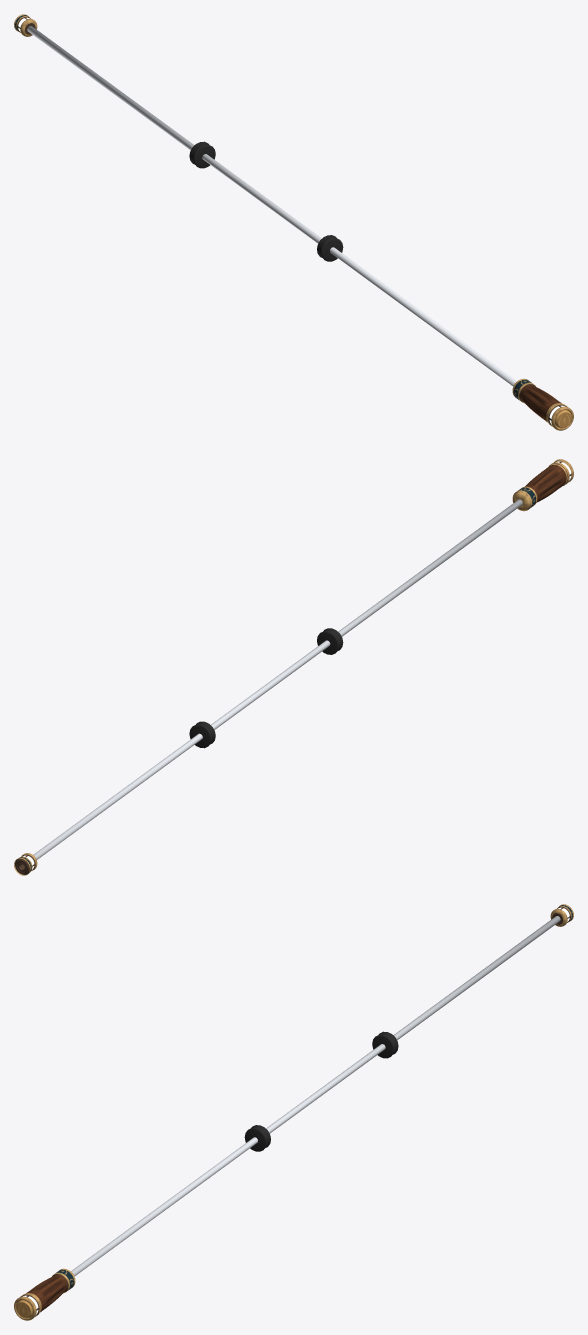
Rendered from fuzeball_rod_2man.glb.
3 renders of one model, top to bottom at view 1: azimuth 30°, elevation 25°; view 2: azimuth 150°, elevation 25°; view 3: azimuth 330°, elevation 25°, orthographic.
Visible parts, largest first — view 1: rod2_bar.002, rod2_handle_walnut_grip; view 2: rod2_bar.002, rod2_handle_walnut_grip; view 3: rod2_bar.002, rod2_handle_walnut_grip.
Part boxes in pixels (x1=…): rod2_bar.002: x1=27, y1=26, x2=516, y2=386; rod2_handle_walnut_grip: x1=520, y1=385, x2=561, y2=422; rod2_bar.002: x1=33, y1=499, x2=522, y2=859; rod2_handle_walnut_grip: x1=525, y1=465, x2=566, y2=502; rod2_bar.002: x1=71, y1=916, x2=560, y2=1276; rod2_handle_walnut_grip: x1=26, y1=1275, x2=67, y2=1312.
Size of the model in its own units: 3.02 by 3.02 by 128.
8 materials, 6 textured.
